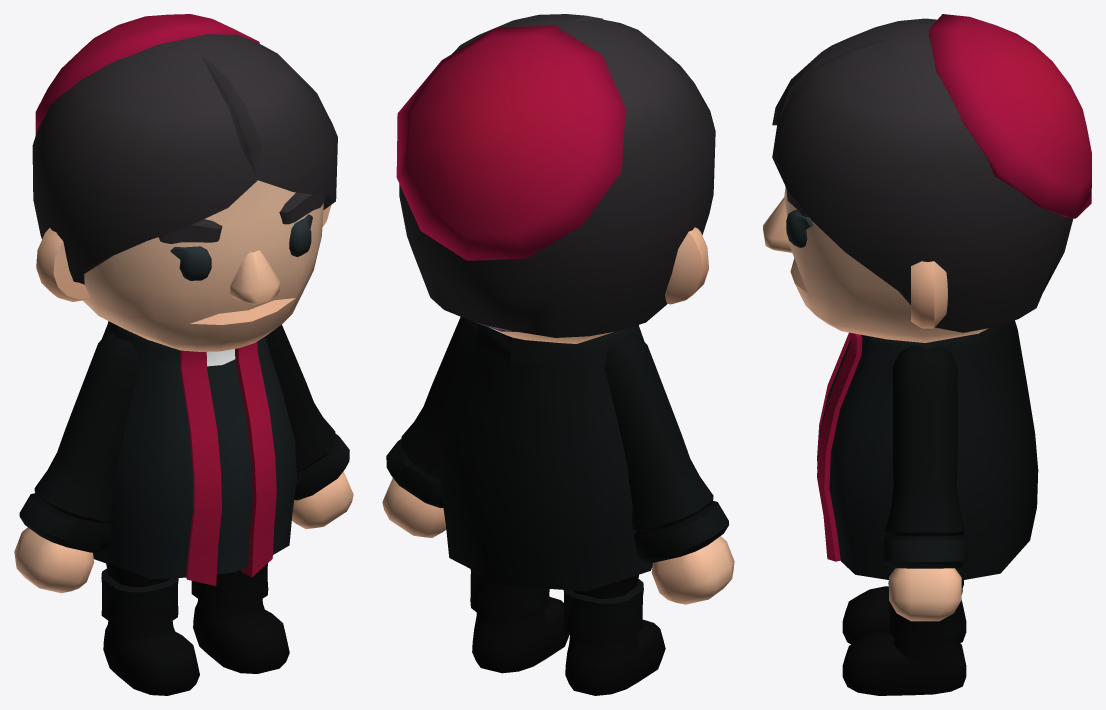
File: Priest_1.glb
The picture shows the model from 3 angles, left to right: view 1: azimuth 30°, elevation 25°; view 2: azimuth 150°, elevation 25°; view 3: azimuth 270°, elevation 25°; orthographic projection. The views are drawn at different scales.
Visible parts, largest first — view 1: Mage_Head.002, Cloak.003, Mage_ArmRight.002, Cloak.006, Mage_LegRight.002, Mage_ArmLeft.002, Mage_LegLeft.002, Sphere.004; view 2: Mage_Head.002, Cloak.003, Sphere.004, Mage_ArmRight.002, Mage_LegRight.002, Mage_ArmLeft.002, Mage_LegLeft.002; view 3: Mage_Head.002, Cloak.003, Sphere.004, Mage_ArmLeft.002, Mage_LegLeft.002, Cloak.006, Mage_LegRight.002.
Boxes of the visible parts, x1,y1,x2,y2 form: Mage_Head.002: (32,34,337,351); Cloak.003: (93,321,296,579); Mage_ArmRight.002: (14,332,139,593); Cloak.006: (180,341,276,585); Mage_LegRight.002: (101,563,199,695); Mage_ArmLeft.002: (265,324,353,528); Mage_LegLeft.002: (191,563,289,673); Sphere.004: (35,14,259,134); Mage_Head.002: (399,14,715,343); Cloak.003: (440,323,652,591); Sphere.004: (396,25,625,260); Mage_ArmRight.002: (604,333,734,604); Mage_LegRight.002: (563,575,665,695); Mage_ArmLeft.002: (382,317,478,537); Mage_LegLeft.002: (470,569,569,673); Mage_Head.002: (763,18,1073,342); Cloak.003: (817,320,1038,580); Sphere.004: (929,14,1091,218); Mage_ArmLeft.002: (883,346,967,621); Mage_LegLeft.002: (842,584,966,695); Cloak.006: (817,332,862,561); Mage_LegRight.002: (842,580,966,644).
Bounding box in the file's own units: 1.2 × 2.23 × 1.05.
Materials: 2 (2 with a texture image).
